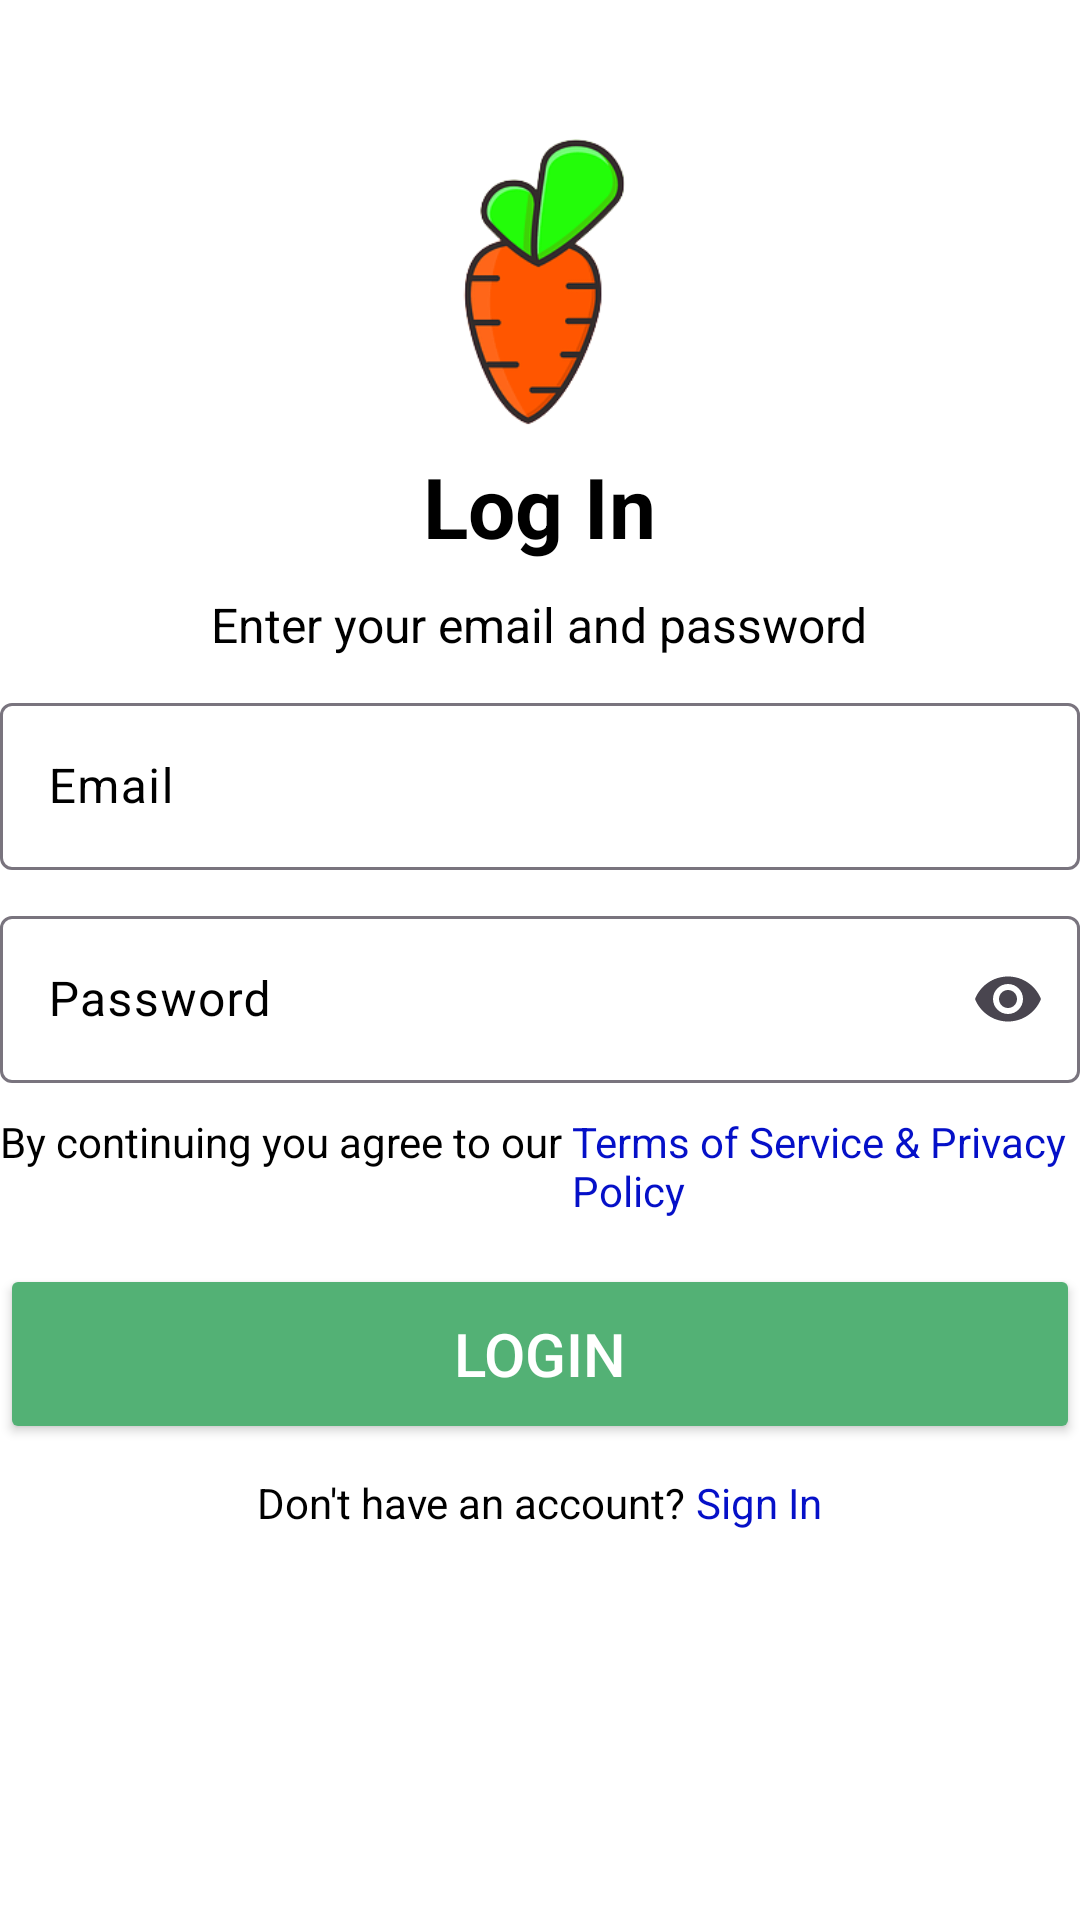

Icons on this 1080*1920 Android screen, each with the point to tap as (x=x, y=y):
carrot: (x=544, y=281)
